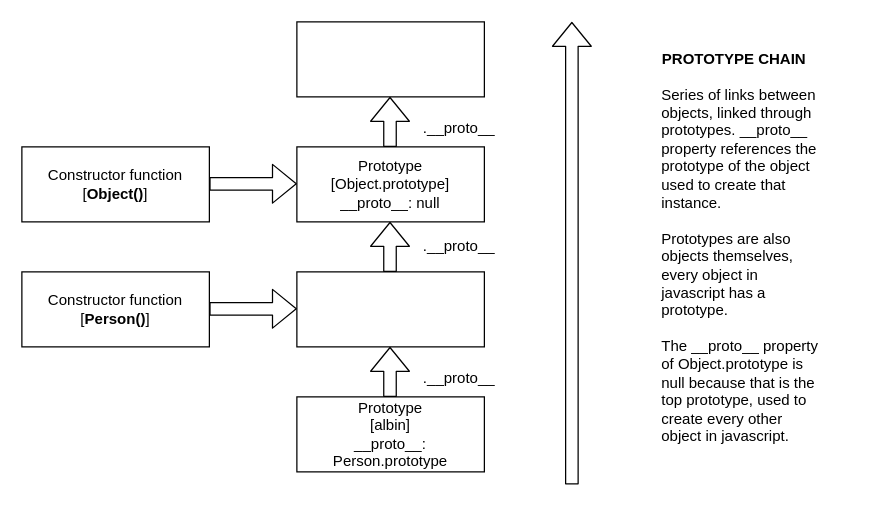
The diagram is 869 pixels wide and 506 high, and some of its shapes have lost their labels. Each missing label, with the centre of its shape:
"null" belongs at point (390, 59).
"Prototype [Person.prototype] __proto__: Object.prototype" belongs at point (390, 309).
